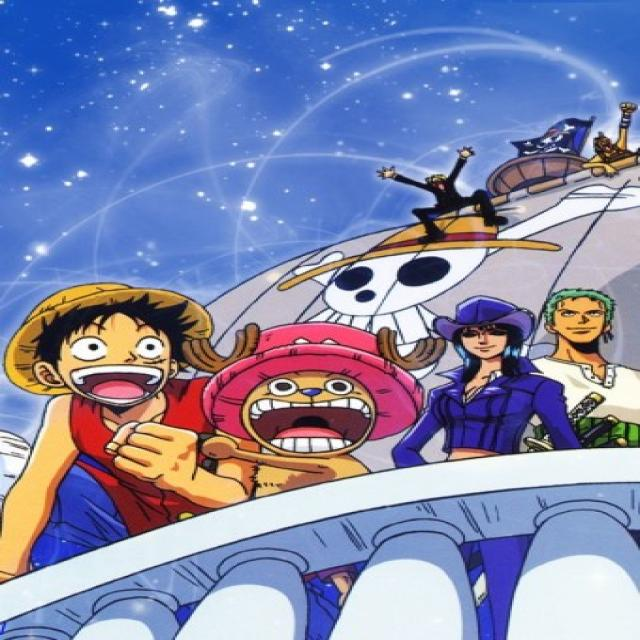Chyopa: (182, 290, 444, 503)
Luffy: (0, 270, 228, 412)
NicoRobin: (417, 292, 541, 374)
Zoro: (535, 279, 631, 365)
